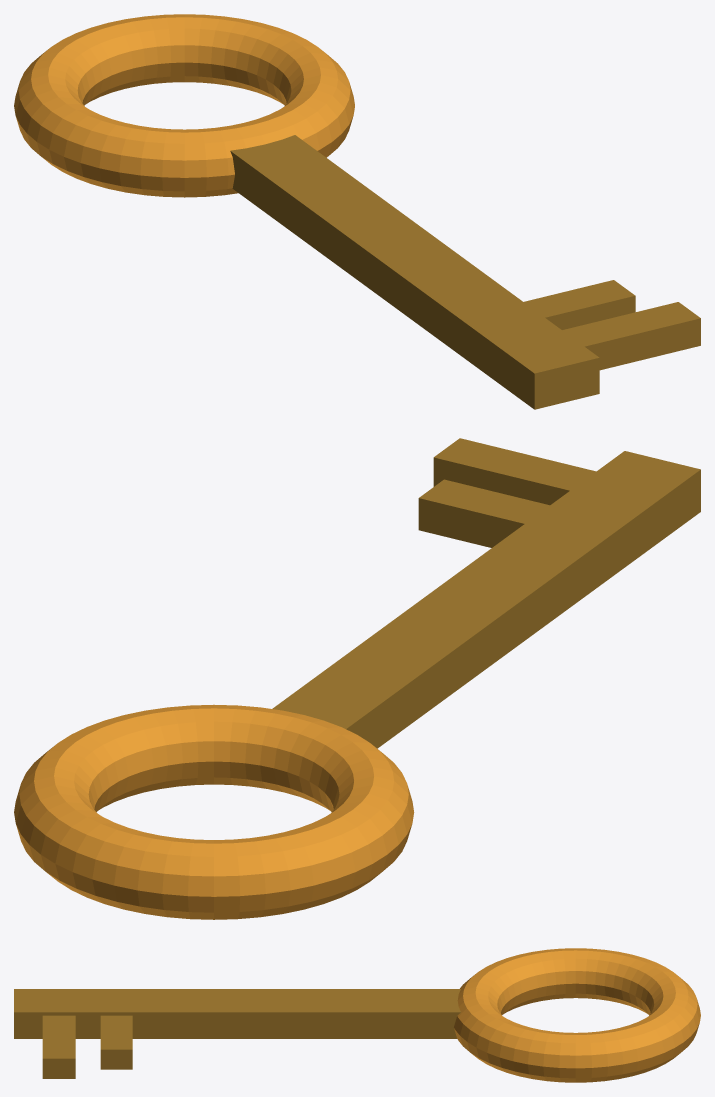
File: Key.glb
3 views of the same model, one above another, from view 1: azimuth 30°, elevation 25°; view 2: azimuth 150°, elevation 25°; view 3: azimuth 270°, elevation 25° (orthographic). The views are drawn at different scales.
Parts seen in each view (by area): view 1: Torus, Cube, Cube.001, Cube.002; view 2: Torus, Cube, Cube.001, Cube.002; view 3: Torus, Cube, Cube.001, Cube.002.
Part boxes in pixels (x1,y1,x2,y2): Torus: [14, 14, 354, 197]; Cube: [230, 135, 599, 409]; Cube.001: [562, 302, 700, 370]; Cube.002: [524, 280, 635, 329]; Torus: [14, 704, 414, 919]; Cube: [272, 451, 700, 748]; Cube.001: [433, 438, 595, 505]; Cube.002: [418, 479, 549, 547]; Torus: [454, 948, 700, 1082]; Cube: [14, 989, 460, 1038]; Cube.001: [42, 1015, 75, 1078]; Cube.002: [100, 1015, 132, 1069].
Bounding box in the file's own units: 2.55 × 0.5 × 6.86.
